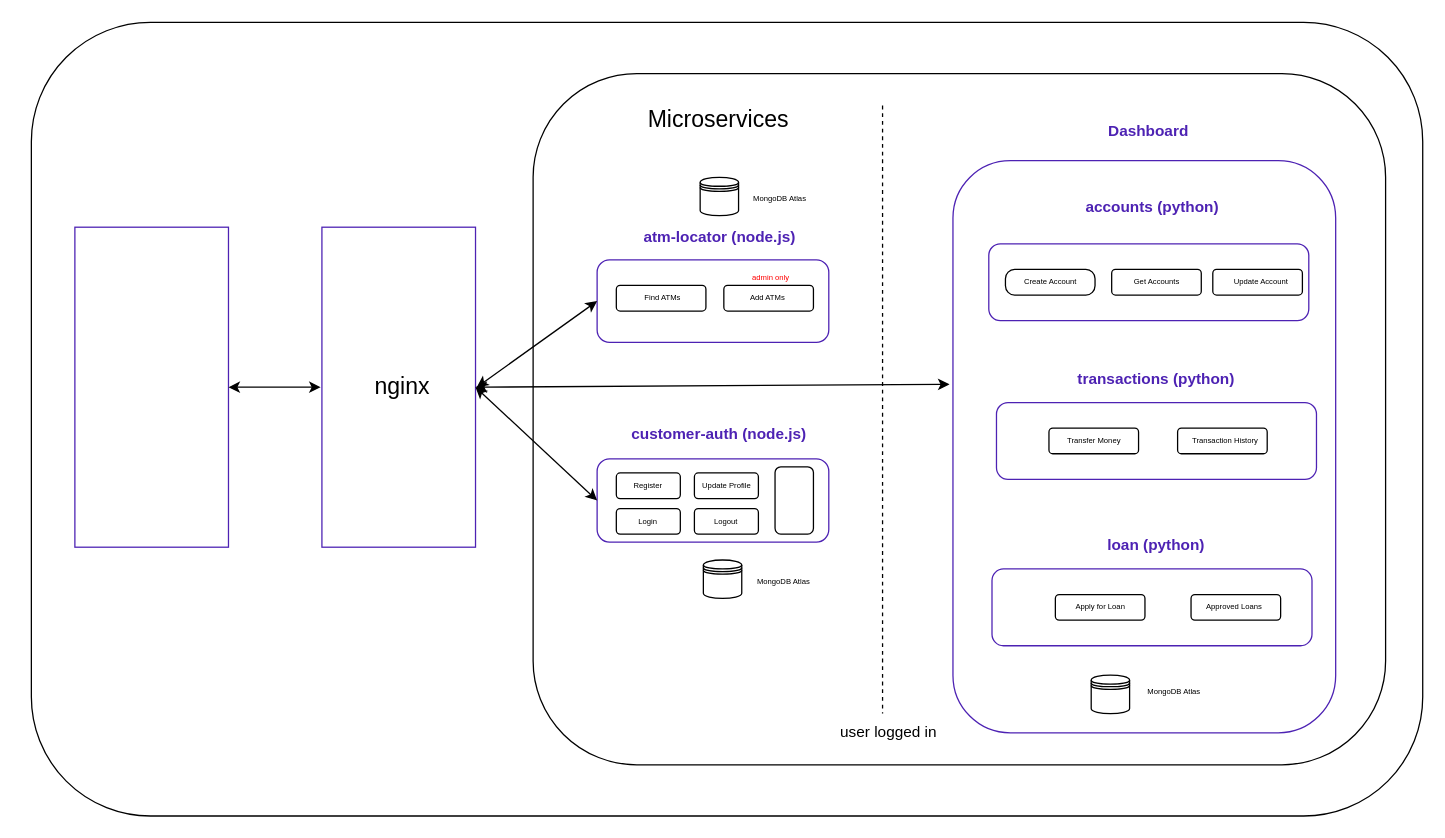
Some shapes in this 1445 by 838 pixel diagram are drawn without their labels. Each missing label, with the centre of its shape:
JWT Tokens: point 793,500
UI (React Dashboard): point 151,386
